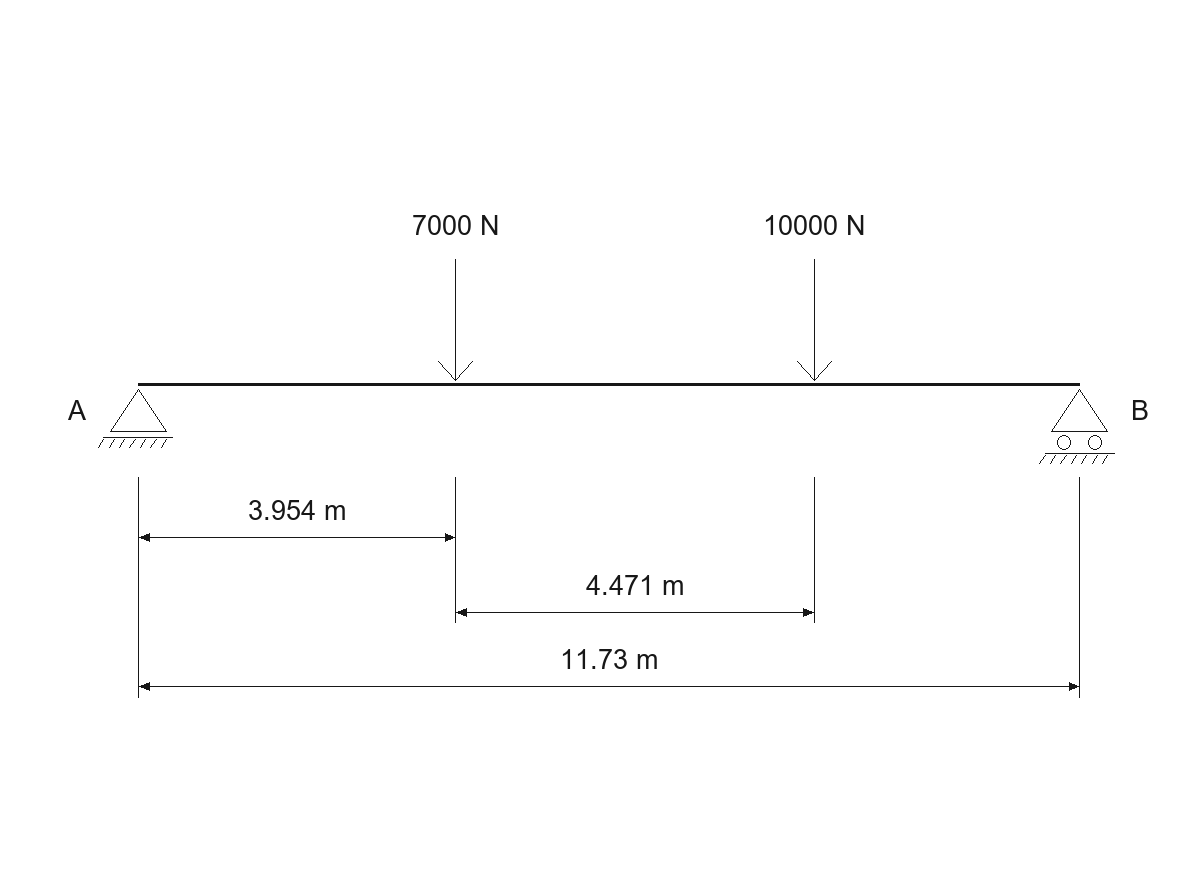pin_support: (98, 389, 173, 448)
point_load: (438, 259, 473, 381), (797, 259, 832, 381)
roller_support: (1039, 389, 1115, 464)
